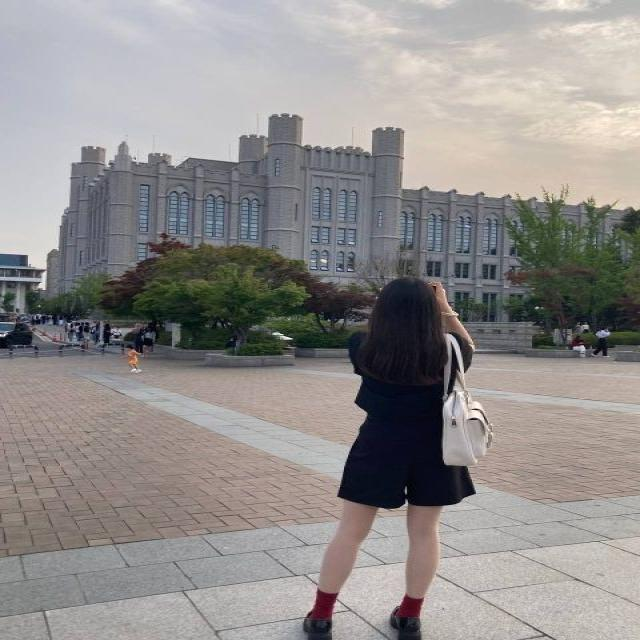blazer: (351, 331, 476, 419)
shortpants: (334, 414, 478, 508)
